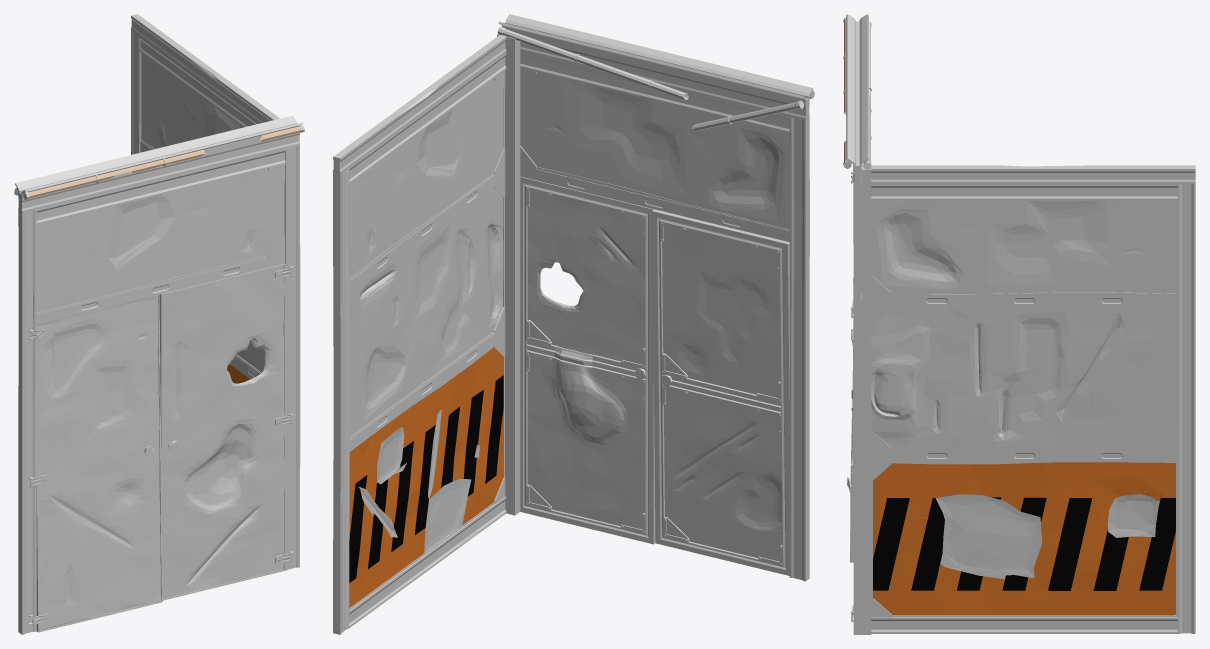
Rendered from SM_Wall_Angle_Door_Broken_01.glb.
The picture shows the model from 3 angles, left to right: view 1: azimuth 30°, elevation 25°; view 2: azimuth 150°, elevation 25°; view 3: azimuth 270°, elevation 25°; orthographic projection. The views are drawn at different scales.
Visible parts, largest first — view 1: SM_Wall_Angle_Door_Broken_01, SM_Door_Angle_Left_For_Wall_Door_Broken_01, SM_Door_Angle_Right_For_Wall_Door_Broken_01; view 2: SM_Wall_Angle_Door_Broken_01, SM_Door_Angle_Left_For_Wall_Door_Broken_01, SM_Door_Angle_Right_For_Wall_Door_Broken_01; view 3: SM_Wall_Angle_Door_Broken_01, SM_Door_Angle_Left_For_Wall_Door_Broken_01.
Part boxes in pixels (bbox=[...]): SM_Wall_Angle_Door_Broken_01: bbox=[14, 14, 304, 634]; SM_Door_Angle_Left_For_Wall_Door_Broken_01: bbox=[30, 294, 162, 632]; SM_Door_Angle_Right_For_Wall_Door_Broken_01: bbox=[158, 264, 293, 600]; SM_Wall_Angle_Door_Broken_01: bbox=[333, 14, 814, 634]; SM_Door_Angle_Left_For_Wall_Door_Broken_01: bbox=[652, 209, 789, 575]; SM_Door_Angle_Right_For_Wall_Door_Broken_01: bbox=[520, 176, 655, 544]; SM_Wall_Angle_Door_Broken_01: bbox=[843, 14, 1195, 634]; SM_Door_Angle_Left_For_Wall_Door_Broken_01: bbox=[847, 174, 853, 562].
Size of the model in its own units: 2 by 3.07 by 2.06.
